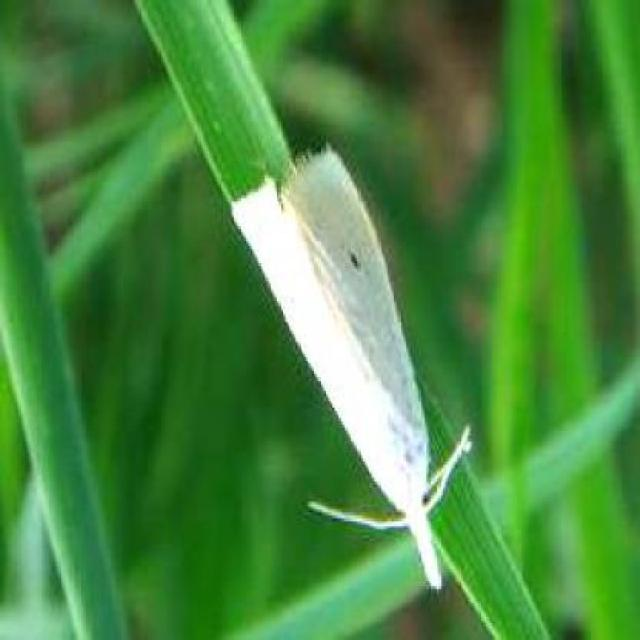stem-borer: (229, 133, 478, 594)
